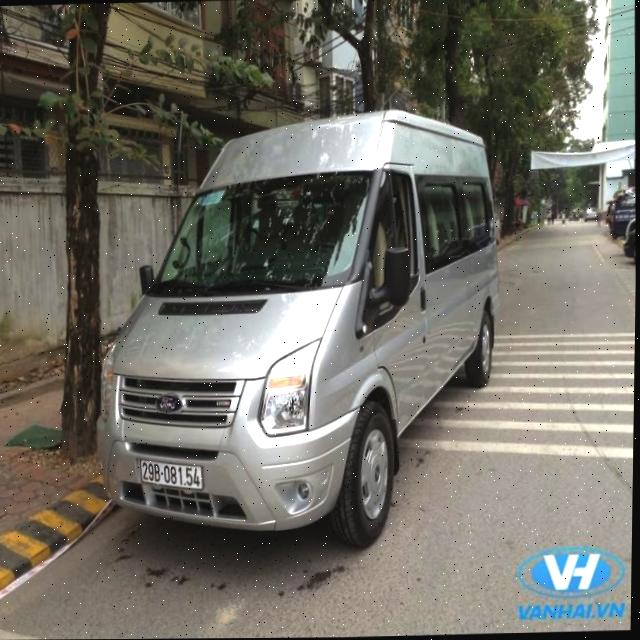car: (93, 97, 522, 550)
plate: (132, 455, 209, 493)
